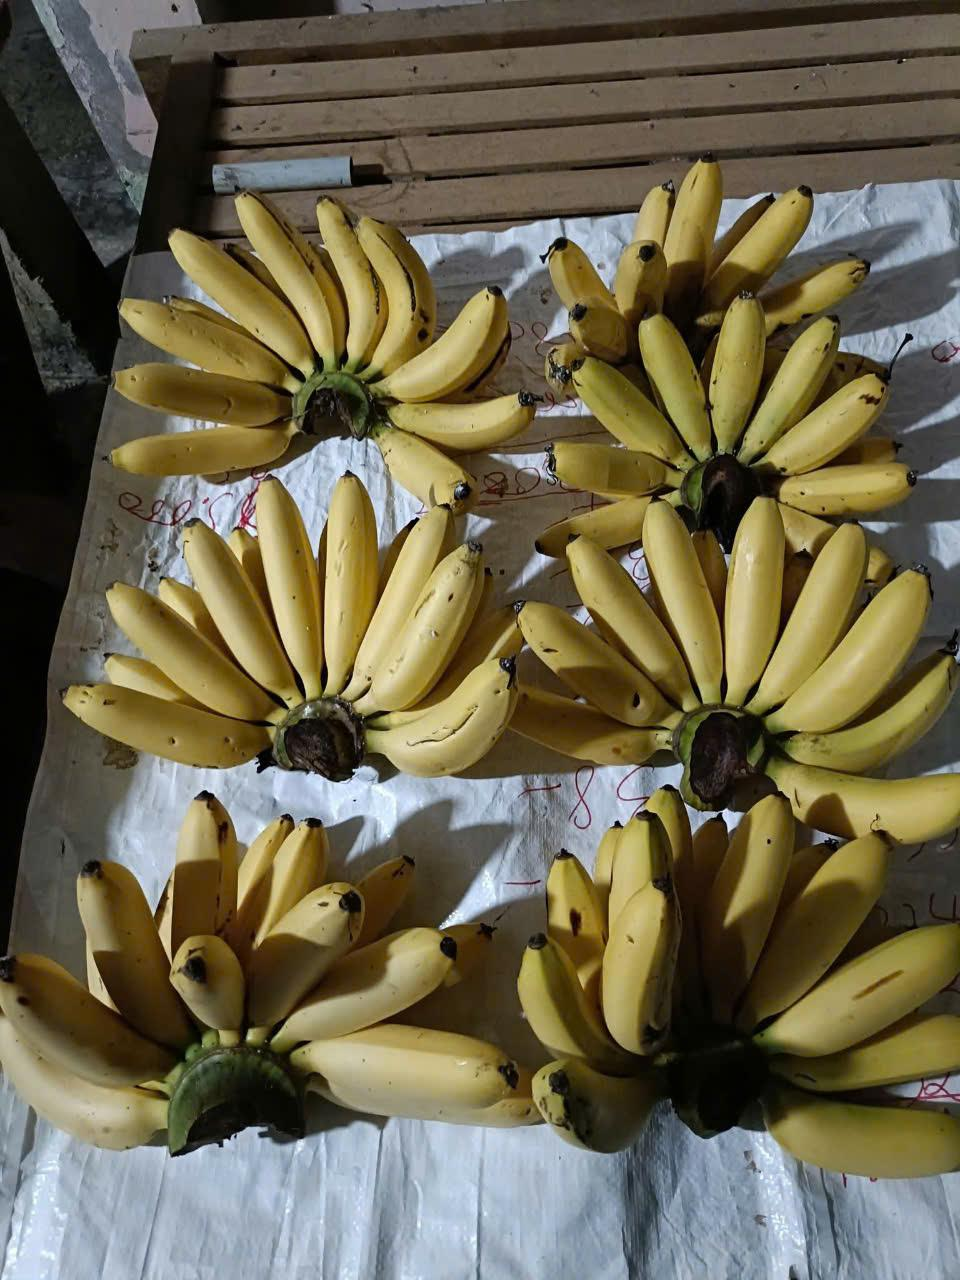banana: (0, 810, 490, 1170), (97, 207, 523, 495), (77, 484, 497, 762), (737, 787, 960, 1195), (523, 837, 720, 1195), (730, 477, 960, 780), (487, 495, 718, 763), (526, 160, 876, 288)
